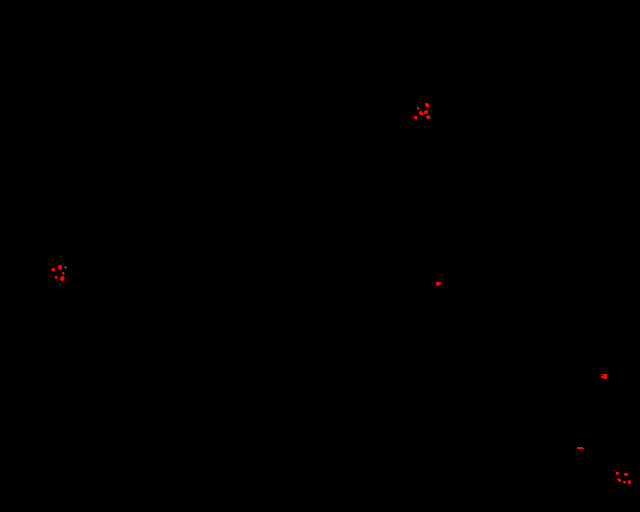Target: (601, 374, 607, 379), (60, 276, 65, 281), (426, 115, 431, 119), (58, 265, 62, 270), (436, 282, 441, 286), (425, 103, 429, 107), (424, 110, 428, 114), (419, 111, 423, 115), (617, 478, 621, 482), (577, 447, 584, 449), (51, 268, 55, 271), (624, 473, 628, 476), (628, 480, 631, 484), (414, 116, 417, 119), (64, 266, 67, 269), (62, 272, 65, 275), (55, 276, 58, 279), (616, 472, 619, 475), (623, 481, 626, 484), (417, 107, 419, 110)
